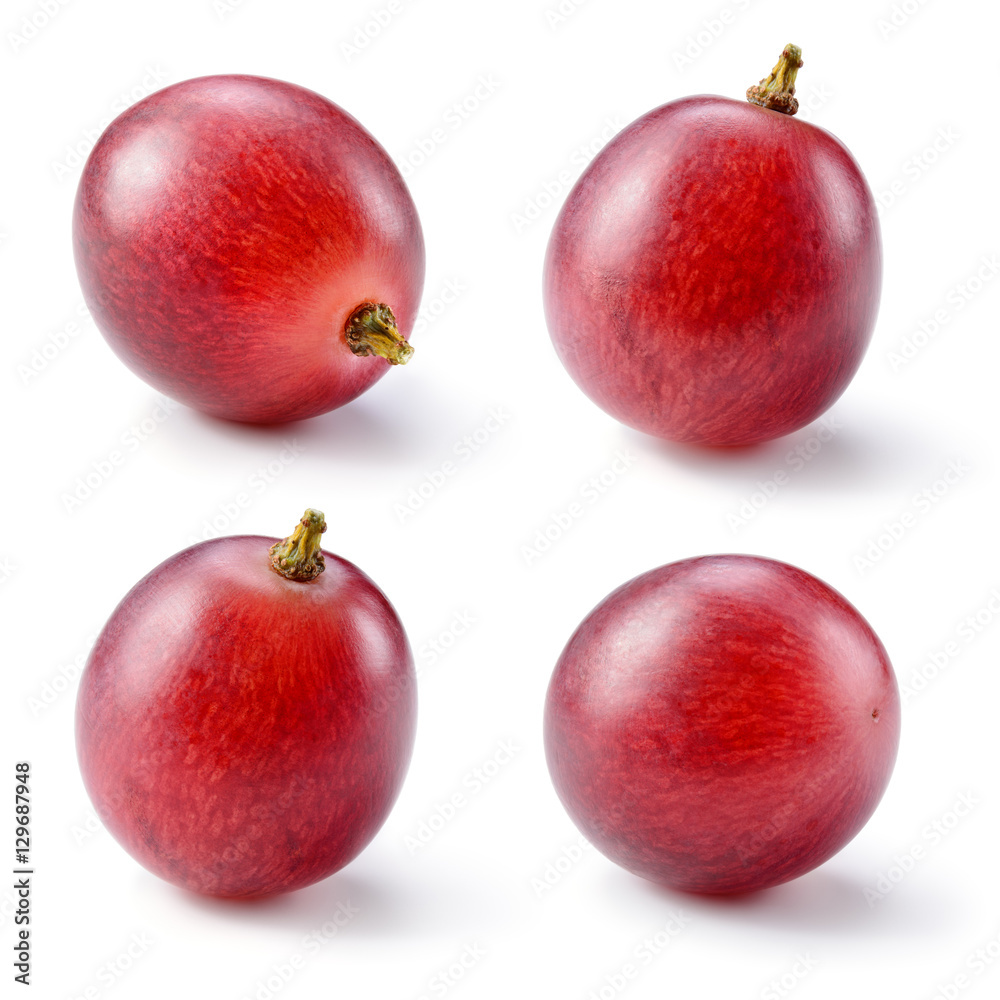grapes: (80, 56, 467, 454)
